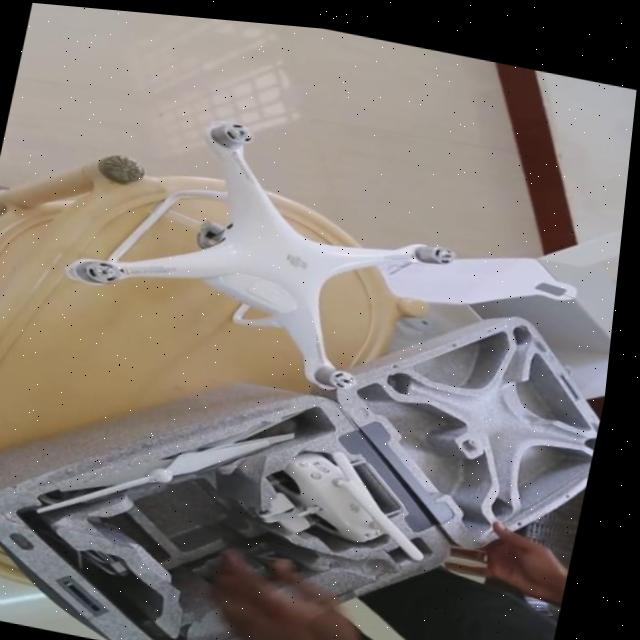drones: (50, 39, 511, 425)
